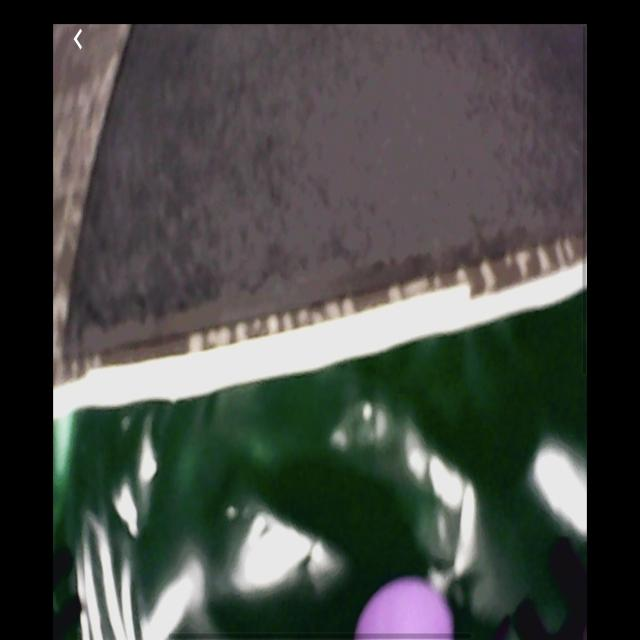ball: (358, 577, 459, 639)
